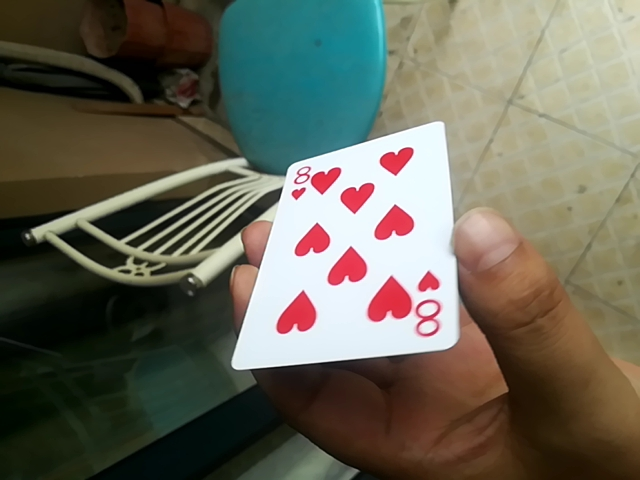hx 8: (233, 117, 457, 370)
